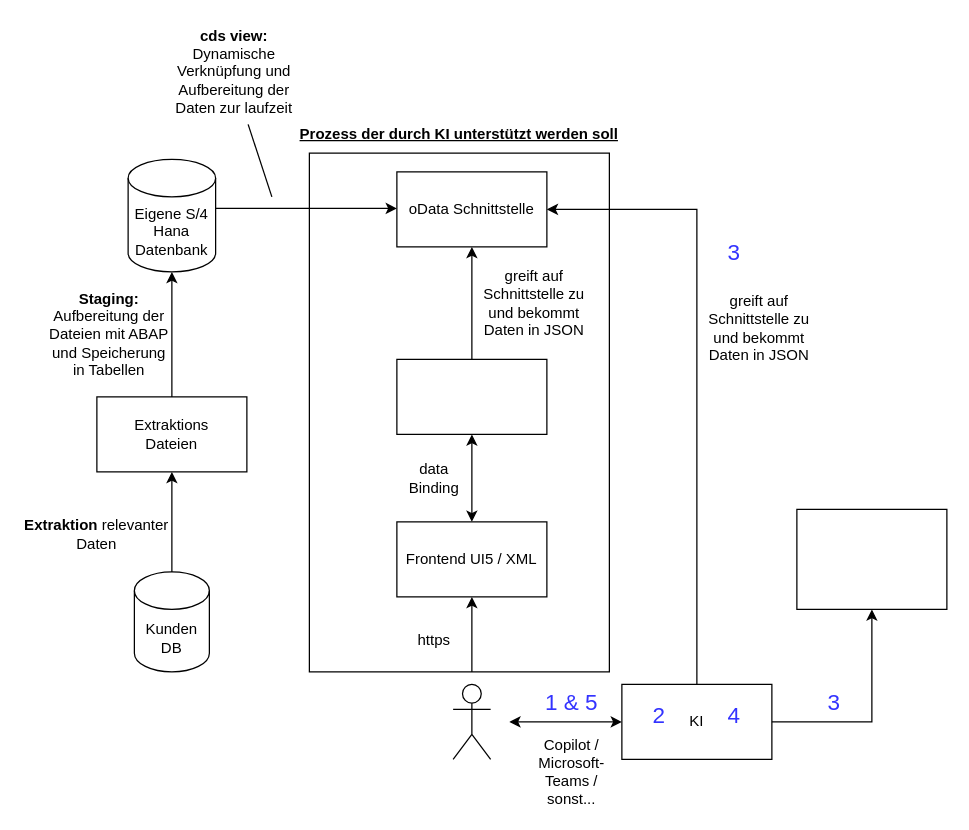
This 969x830 diagram has some shape labels left out. The shapes that lost their labels are listed below. From the top down, each one's box as (x1, y1, x2, y2) in pixels, then its label:
(396, 358, 547, 434): App Controller
(796, 508, 947, 609): Kotext in Textform Doku / App Erklärungen / Weitere Informartionen zum EA
(452, 683, 491, 759): User
